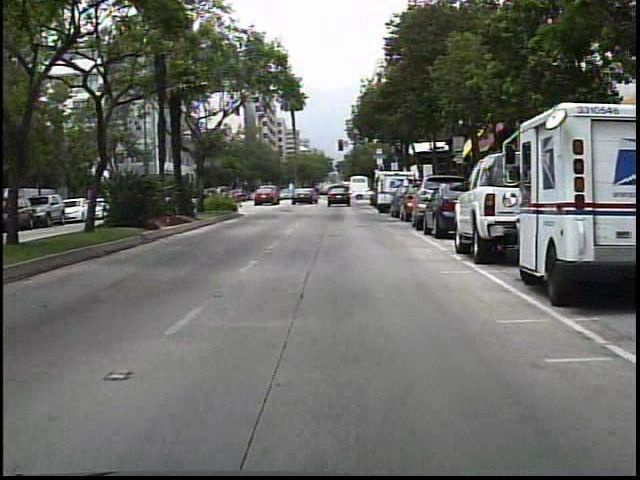person: (313, 184, 326, 204), (327, 181, 328, 205)
